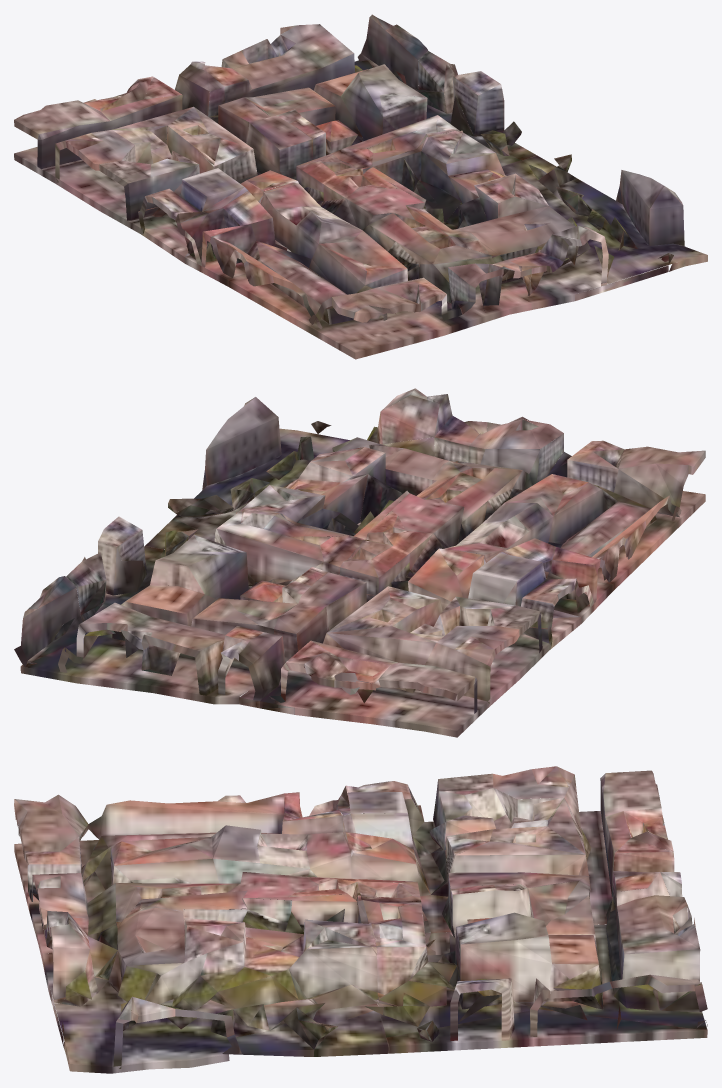
3 views of the same model, one above another, from view 1: azimuth 30°, elevation 25°; view 2: azimuth 150°, elevation 25°; view 3: azimuth 270°, elevation 25° (orthographic). The views are drawn at different scales.
Visible parts, largest first — view 1: Mesh_0; view 2: Mesh_0; view 3: Mesh_0.
Part boxes in pixels (<box>): Mesh_0: <box>14,14,707,359</box>; Mesh_0: <box>14,388,705,737</box>; Mesh_0: <box>14,766,707,1073</box>.
Size of the model in its own units: 266 by 43.45 by 330.
2 materials, 2 textured.
